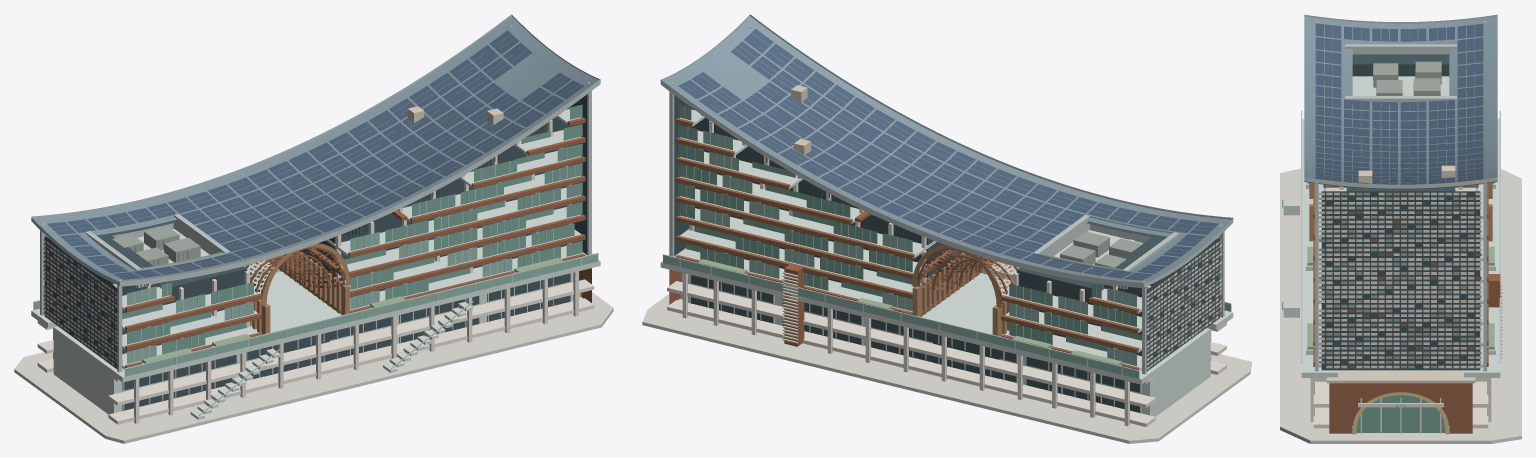
Rendered from dot-P02.glb.
3 renders of one model, left to right at view 1: azimuth 30°, elevation 25°; view 2: azimuth 150°, elevation 25°; view 3: azimuth 270°, elevation 25°, orthographic. The views are drawn at different scales.
Visible parts, largest first — view 1: 鳳山車站_current_name, P02_glass_light; view 2: 鳳山車站_current_name, P02_glass_light; view 3: 鳳山車站_current_name, P02_glass_light.
Boxes of the visible parts, left/top/right/bottom form: 鳳山車站_current_name: left=14, top=14, right=613, bottom=443; P02_glass_light: left=33, top=30, right=598, bottom=376; 鳳山車站_current_name: left=642, top=14, right=1251, bottom=443; P02_glass_light: left=663, top=29, right=1231, bottom=378; 鳳山車站_current_name: left=1280, top=14, right=1521, bottom=443; P02_glass_light: left=1315, top=23, right=1483, bottom=432.
Bounding box in the file's own units: 7.55 × 3.35 × 2.83.
Materials: 2 (2 with a texture image).
